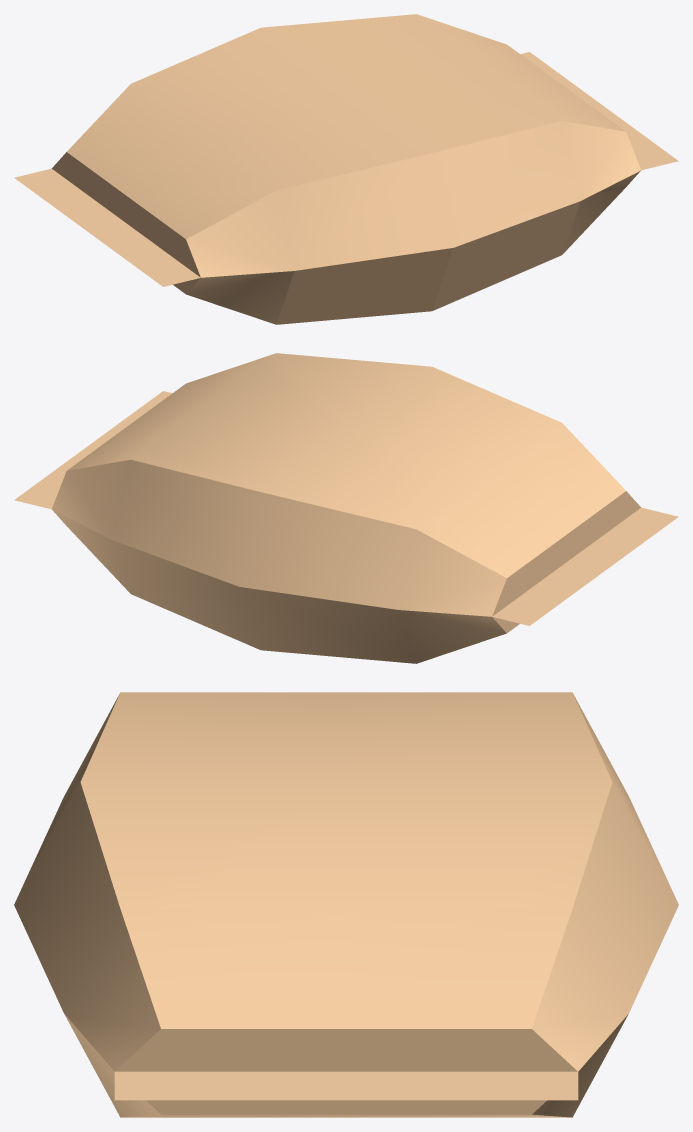
File: bagFlat.obj
The picture shows the model from 3 angles, top to bottom: view 1: azimuth 30°, elevation 25°; view 2: azimuth 150°, elevation 25°; view 3: azimuth 270°, elevation 25°; orthographic projection. The views are drawn at different scales.
Parts seen in each view (by area): view 1: bagFlat; view 2: bagFlat; view 3: bagFlat.
Part boxes in pixels (x1,y1,x2,y2): bagFlat: (14, 14, 678, 324); bagFlat: (14, 353, 678, 663); bagFlat: (14, 692, 678, 1117).
Size of the model in its own units: 0.65 by 0.1905 by 0.4675.
